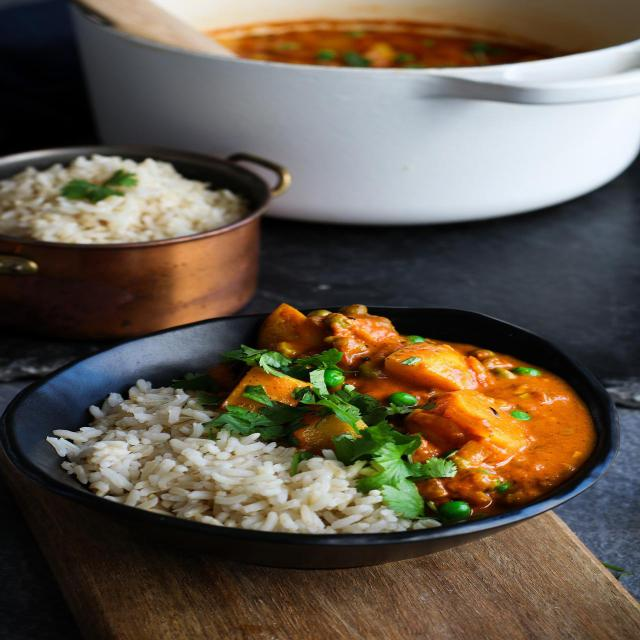aloo_matar: (247, 287, 580, 483)
rice: (84, 401, 334, 555), (2, 150, 246, 246)
